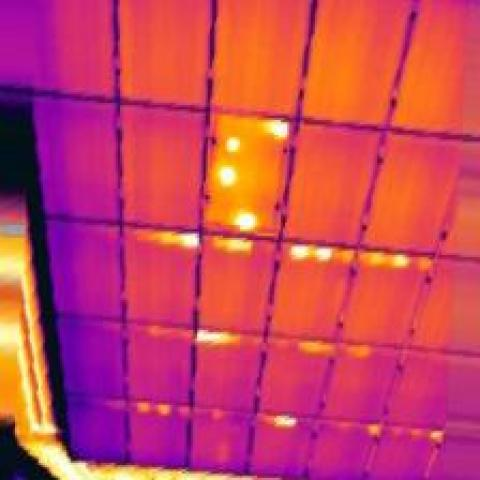fault: (140, 229, 200, 251), (217, 161, 245, 195), (364, 251, 414, 270), (195, 330, 244, 349), (290, 338, 334, 358), (216, 236, 255, 257), (262, 115, 290, 144), (234, 206, 259, 238), (264, 413, 302, 433), (219, 128, 244, 158), (287, 242, 311, 264), (345, 343, 375, 360), (311, 244, 334, 266), (364, 420, 382, 437), (428, 428, 444, 446), (154, 401, 170, 418), (133, 400, 148, 416)
